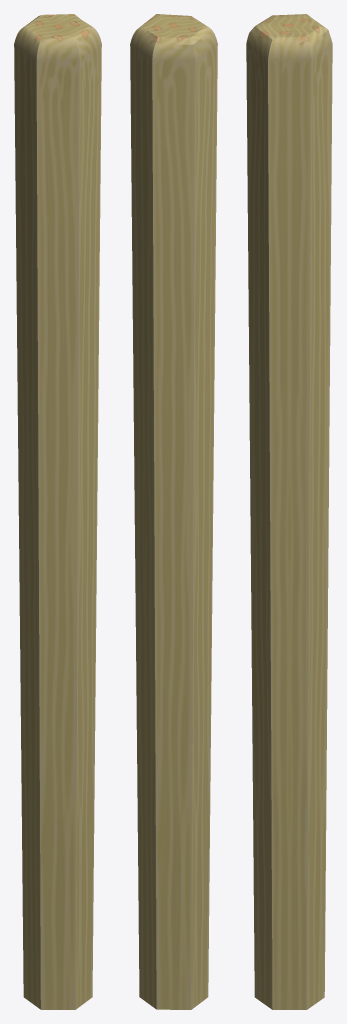
The model's file is Sand_Mesh.fbx.
3 views of the same model, side by side, from view 1: azimuth 30°, elevation 25°; view 2: azimuth 210°, elevation 25°; view 3: azimuth 270°, elevation 25° (orthographic).
Visible parts, largest first — view 1: Sable_LP_2; view 2: Sable_LP_2; view 3: Sable_LP_2.
Part boxes in pixels (x1=…): Sable_LP_2: x1=14, y1=14, x2=101, y2=1009; Sable_LP_2: x1=130, y1=14, x2=217, y2=1009; Sable_LP_2: x1=246, y1=14, x2=332, y2=1009.
Size of the model in its own units: 203 by 2854 by 230.
